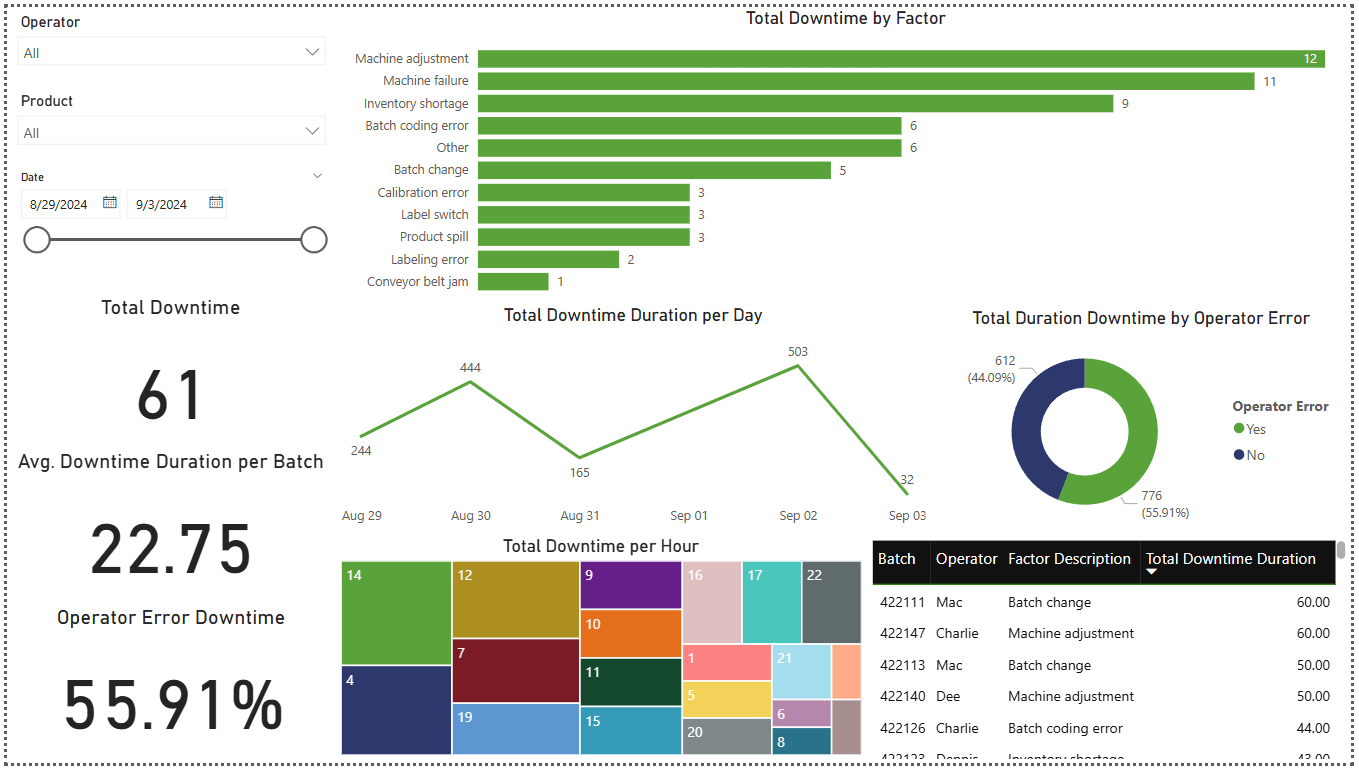

The page's visual inventory and layout, read from the dashboard file:
{"tool":"powerbi","page":{"name":"Downtime Analysis","canvas":[1280,720],"ordinal":1},"visuals":[{"type":"clusteredBarChart","title":"Total Downtime by Factor","fields":{"Category":["public downtime_factors.Description"],"Y":["Calculated.Total_Downtime"]},"box":[316.7,0,963.3,283.3],"z":0},{"type":"lineChart","title":"Total Downtime Duration per Day","fields":{"Category":["public line_productivity.Date"],"Y":["Calculated.Total Duration Downtime"]},"box":[313.4,283.5,567,218.9],"z":1000},{"type":"slicer","fields":{"Values":["public line_productivity.Operator"]},"box":[0,0,313,75],"z":2000},{"type":"slicer","fields":{"Values":["public line_productivity.Date"]},"box":[0,150,313.3,130],"z":3000},{"type":"slicer","fields":{"Values":["public products.Product"]},"box":[0,75,313.3,75],"z":4000},{"type":"donutChart","title":"Total Duration Downtime by Operator Error","fields":{"Category":["public downtime_factors.Operator Error"],"Y":["Calculated.Total_Downtime"]},"box":[880.5,285.1,400.1,217.4],"z":5000},{"type":"tableEx","fields":{"Values":["public line_downtime.Batch","public line_productivity.Operator","public downtime_factors.Description","Calculated.Total_Downtime"]},"box":[819,502.5,461.5,217.4],"z":6000},{"type":"card","title":"Total Downtime","fields":{"Values":["Calculated.Total_Downtime"]},"box":[0,274,312,148],"z":7000},{"type":"card","title":"Operator Error Downtime","fields":{"Values":["Calculated.Operator_Error_Downtime"]},"box":[0,570,312.9,147.1],"z":8000},{"type":"card","title":"Avg. Downtime Duration per Batch","fields":{"Values":["Calculated.Avg_Downtime_Per_Batch"]},"box":[0,422,312,148],"z":9000},{"type":"treemap","title":"Total Downtime per Hour","fields":{"Group":["public line_productivity.Hour_Start"],"Values":["Calculated.Total_Downtime"]},"box":[313.4,502.5,505.6,214.2],"z":10000}]}

Visuals, with their boxes in screenshot pixels (x1, y1, x2, y2), scaled from the page's 1280x720 canvas onto the 1359x772 screenshot:
"Total Downtime by Factor" clusteredBarChart: bbox(336, 0, 1358, 304)
"Total Downtime Duration per Day" lineChart: bbox(333, 304, 935, 539)
slicer - public line_productivity.Operator: bbox(0, 0, 332, 80)
slicer - public line_productivity.Date: bbox(0, 161, 333, 300)
slicer - public products.Product: bbox(0, 80, 333, 161)
"Total Duration Downtime by Operator Error" donutChart: bbox(935, 306, 1358, 539)
tableEx - public line_downtime.Batch x public line_productivity.Operator: bbox(870, 539, 1358, 771)
"Total Downtime" card: bbox(0, 294, 331, 452)
"Operator Error Downtime" card: bbox(0, 611, 332, 769)
"Avg. Downtime Duration per Batch" card: bbox(0, 452, 331, 611)
"Total Downtime per Hour" treemap: bbox(333, 539, 870, 768)
